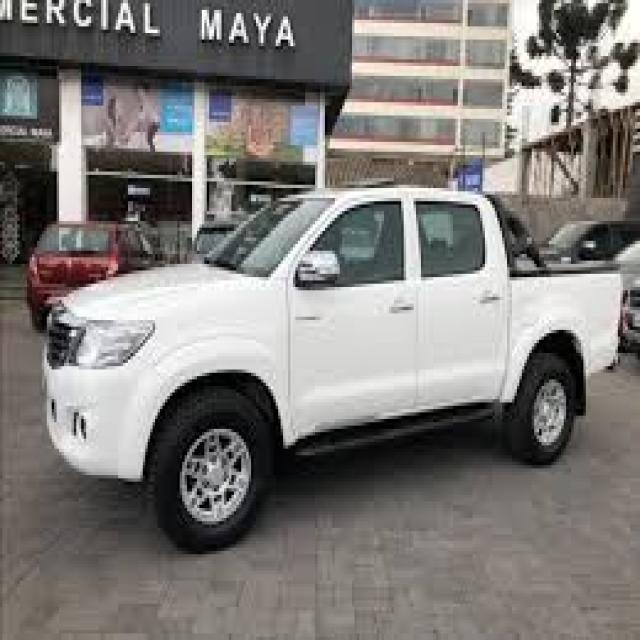CMT: (37, 186, 606, 541)
